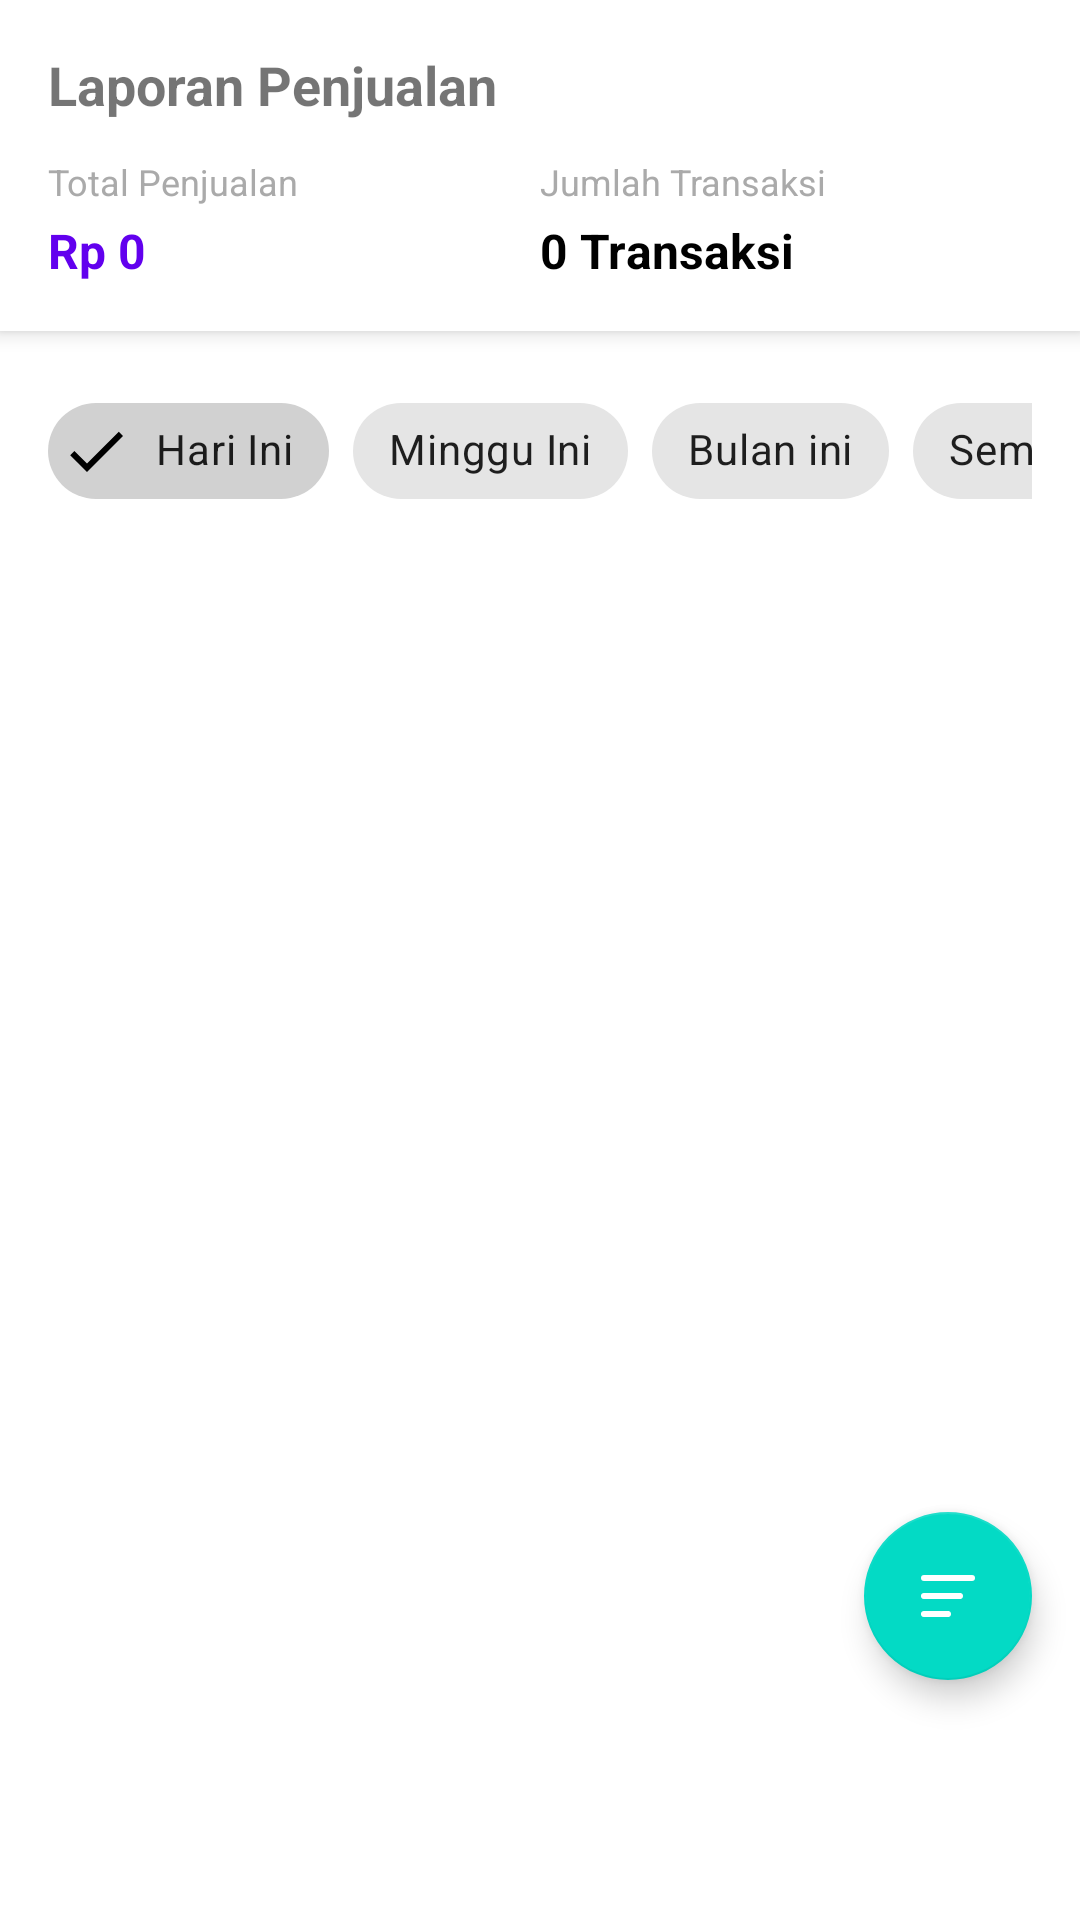

Where to tap for icons on this 1080 × 1920 app screen, as [x,y]:
filter: [948,1596]
